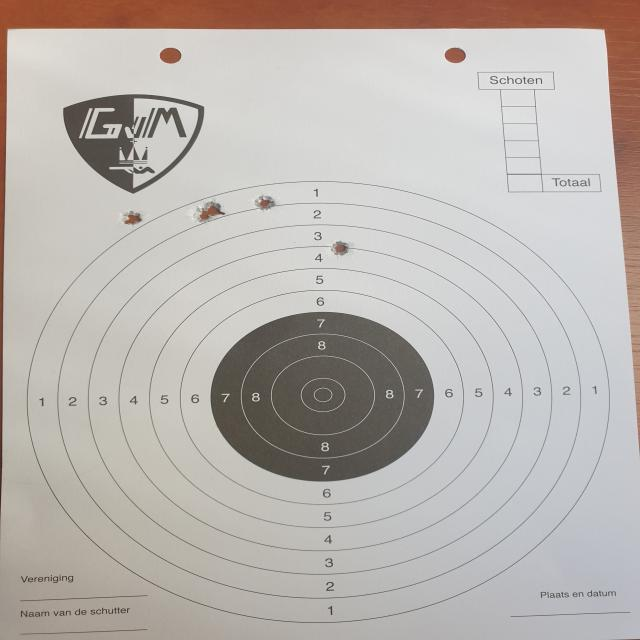1: (202, 200, 226, 218)
3: (252, 192, 279, 214), (186, 206, 211, 224)
5: (326, 240, 354, 258)
Black Contour: (210, 311, 436, 482)
Target: (24, 180, 612, 624)
hole: (118, 210, 144, 228)
